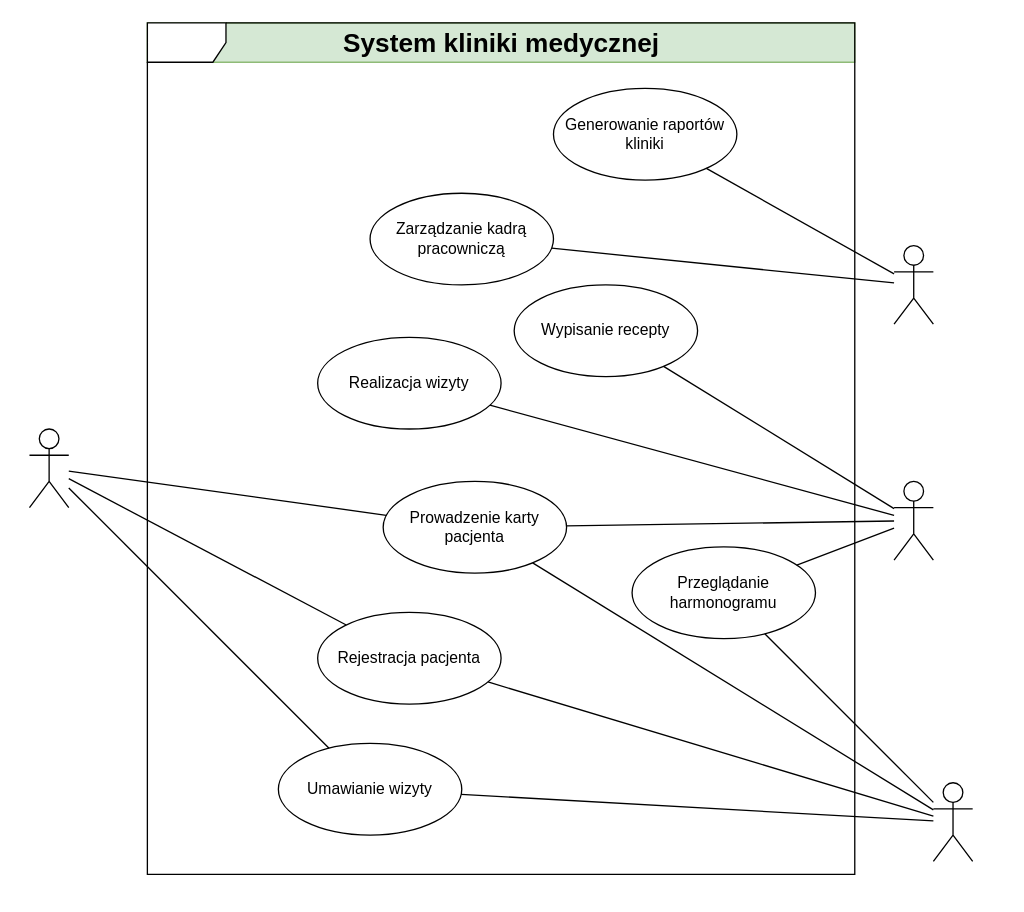
Some shapes in this 1024 by 912 pixel diagram are drawn without their labels. The box of each missing label's shape, as (x1, y1, x2, y2) in pixels:
Admin: (893, 244, 933, 324)
Lekarz: (893, 480, 933, 560)
Pacjent: (28, 428, 69, 508)
Recepcjonista: (932, 781, 973, 861)
